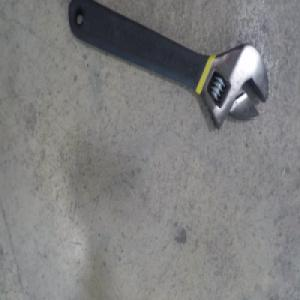AdjustableWrench: (69, 0, 271, 129)
